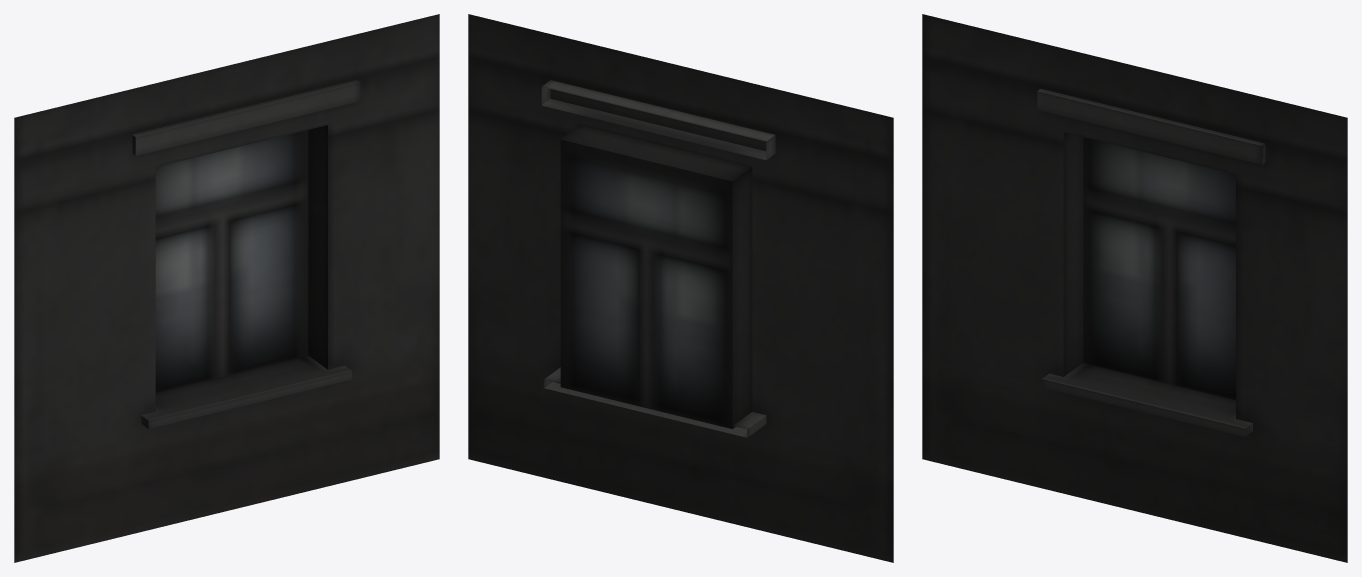
File: B9_WindowB.FBX
3 views of the same model, side by side, from view 1: azimuth 30°, elevation 25°; view 2: azimuth 150°, elevation 25°; view 3: azimuth 330°, elevation 25° (orthographic).
Visible parts, largest first — view 1: B9_WindowB; view 2: B9_WindowB; view 3: B9_WindowB.
Boxes of the visible parts, x1=… form: B9_WindowB: x1=14, y1=14, x2=439, y2=562; B9_WindowB: x1=468, y1=14, x2=893, y2=562; B9_WindowB: x1=922, y1=14, x2=1347, y2=562.
Bounding box in the file's own units: 4 × 4 × 0.4395.
